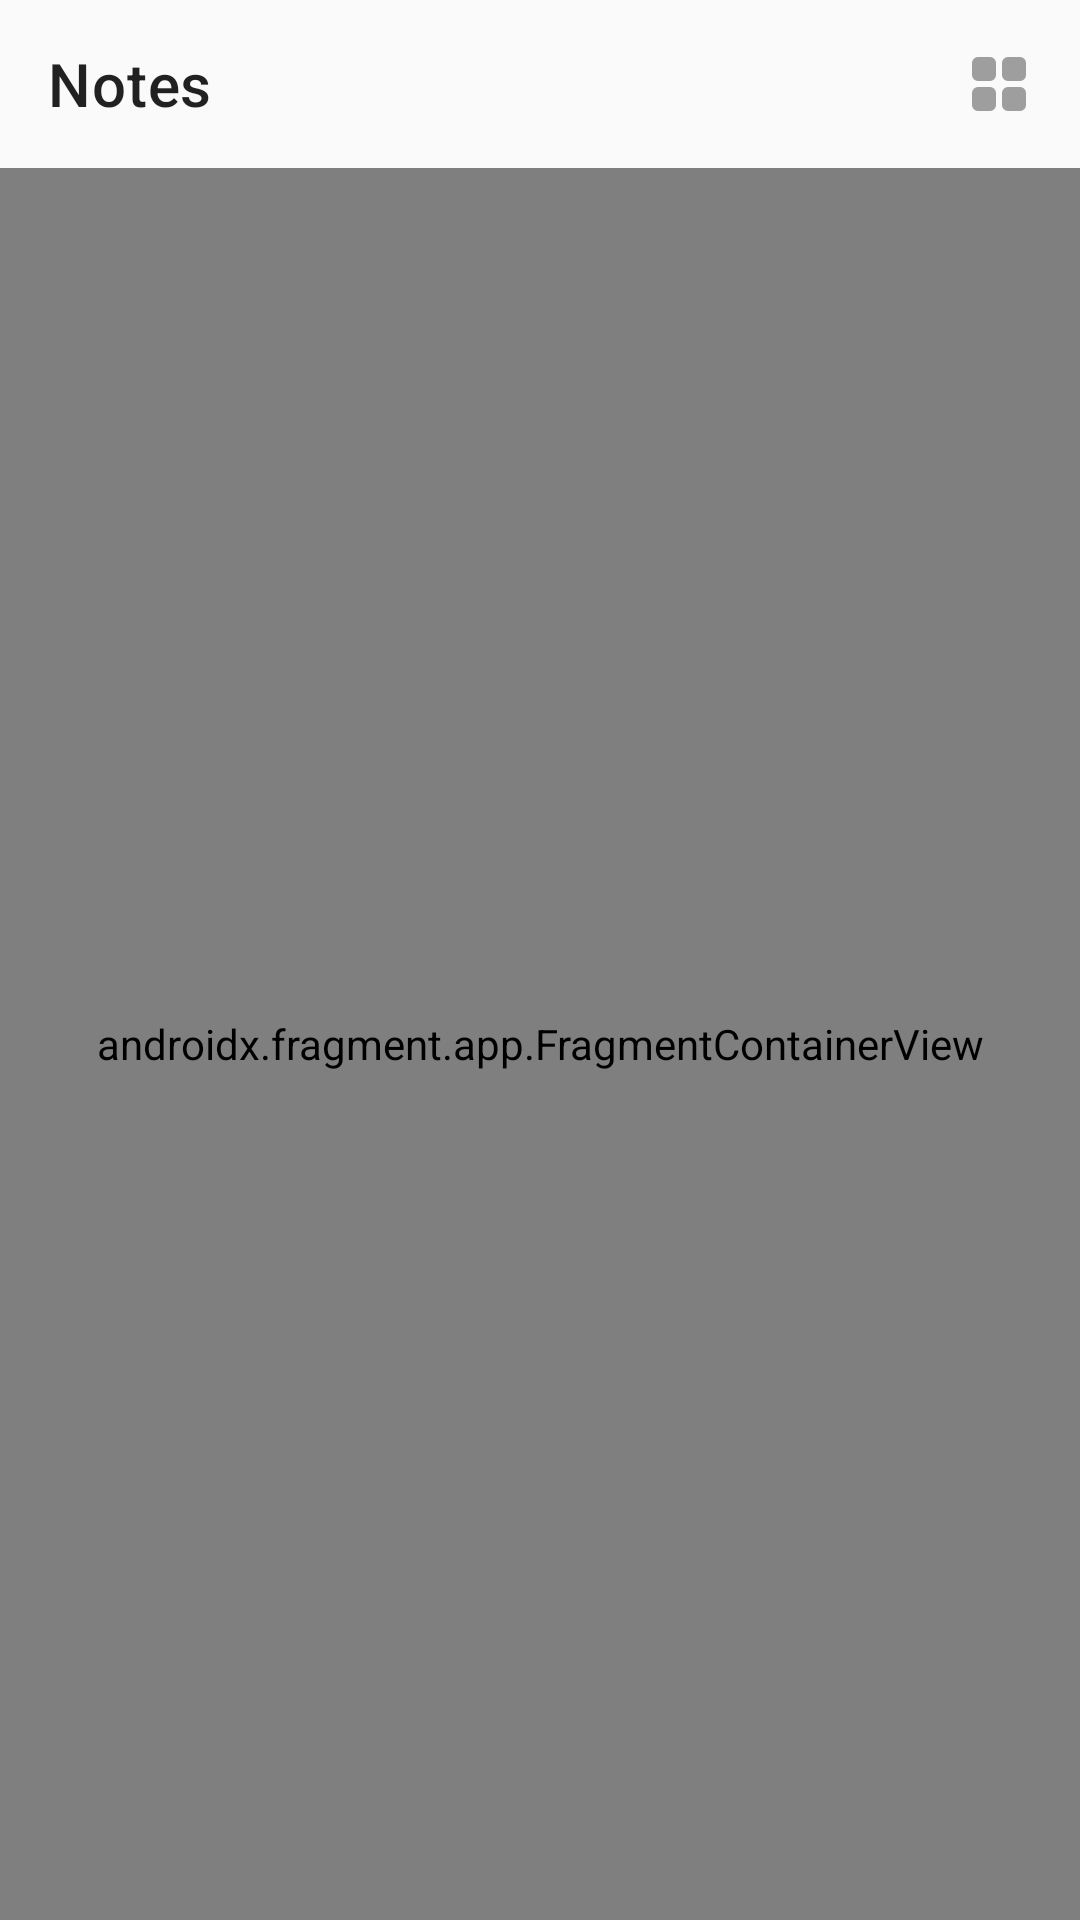

Icons on this 1080x1920 Android screen, each with its box as (left=x1, top=y1, right=x2, bottom=y2):
grid: (left=972, top=57, right=1026, bottom=111)
